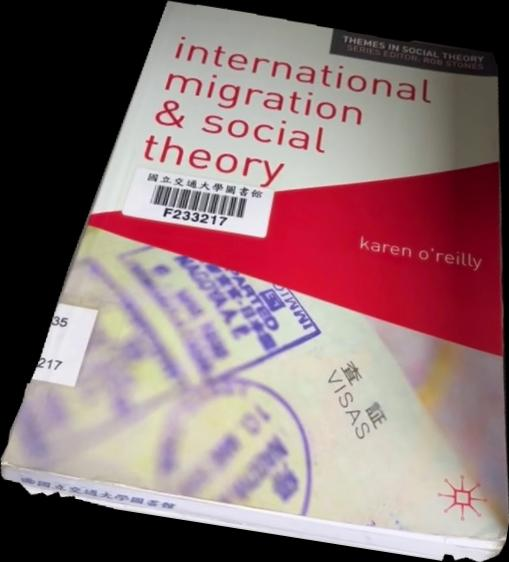flat: (1, 1, 509, 562)
